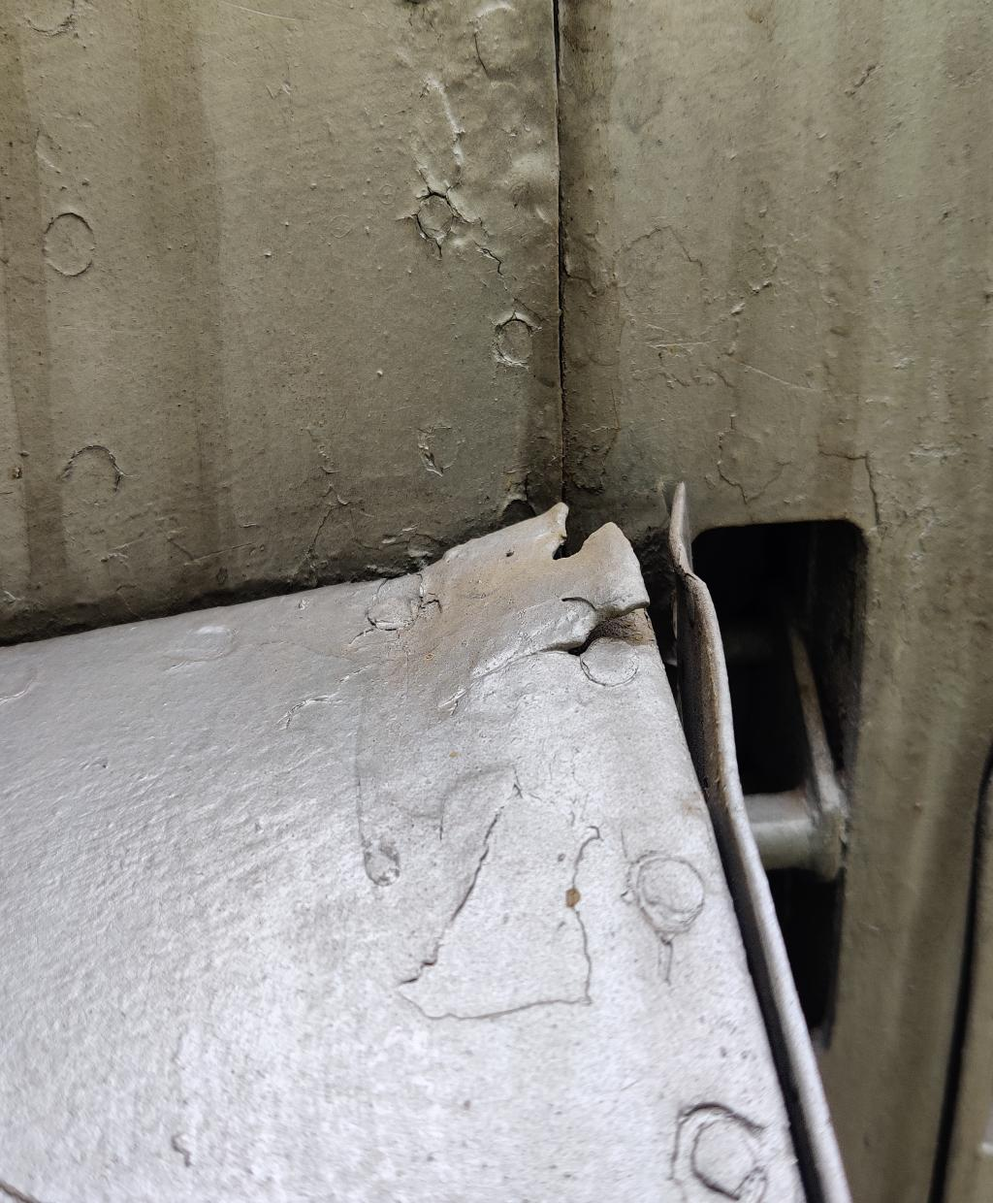crack: (525, 577, 665, 694)
